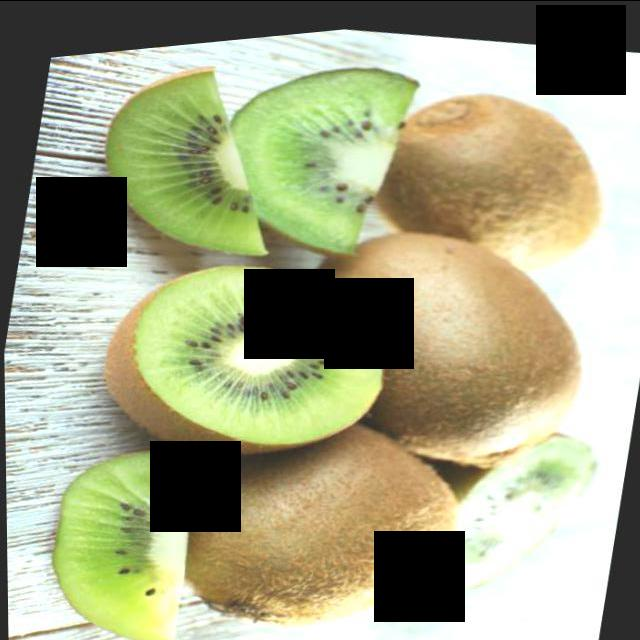kiwi: (298, 198, 608, 493), (172, 385, 478, 640), (368, 57, 630, 293)
